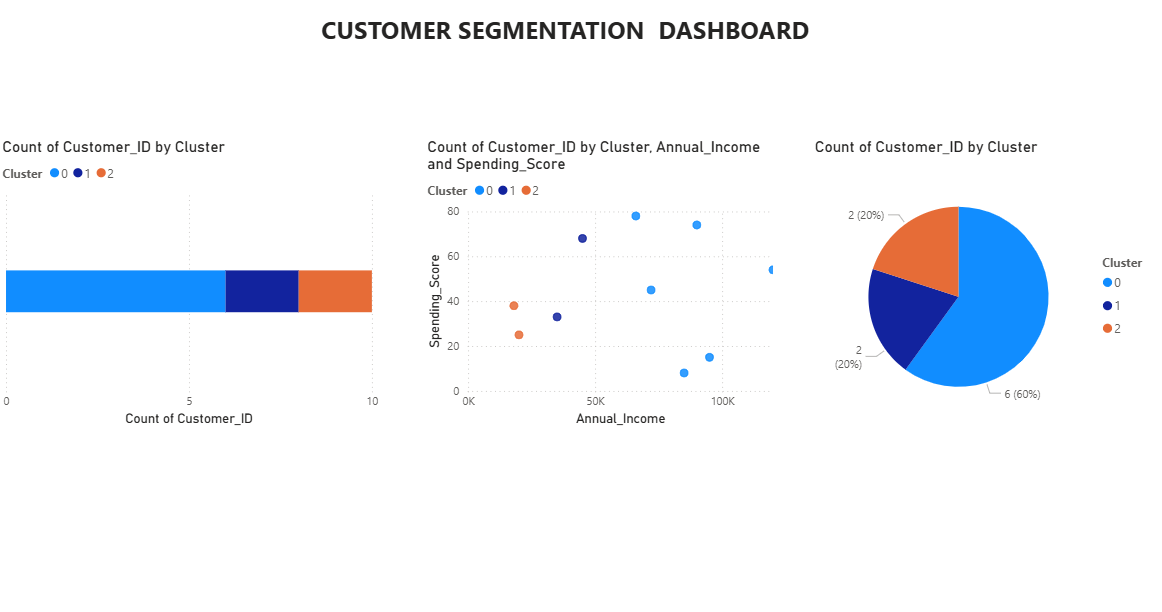

What the dashboard file says about the page in this screenshot:
{"tool":"powerbi","page":{"name":"Page 1","canvas":[1280,720],"ordinal":0},"visuals":[{"type":"scatterChart","fields":{"X":["clustered_customers.Annual_Income"],"Y":["clustered_customers.Spending_Score"],"Series":["clustered_customers.Cluster"]},"box":[466.6,197.6,403.4,322.5],"z":0},{"type":"barChart","fields":{"Y":["CountNonNull(clustered_customers.Customer_ID)"],"Series":["clustered_customers.Cluster"]},"box":[0,197.6,422.6,322.5],"z":1000},{"type":"pieChart","fields":{"Category":["clustered_customers.Cluster"],"Y":["CountNonNull(clustered_customers.Customer_ID)"]},"box":[891.9,197.6,388.3,332.1],"z":1001},{"type":"textbox","box":[0,0,503.6,111.1],"z":1002},{"type":"textbox","box":[349.9,56.3,635.3,93.3],"z":1003},{"type":"textbox","box":[892,0,388,150],"z":1004}]}

Visuals, with their boxes on the page's 1280x720 design canvas (x1, y1, x2, y2). These are canvas units, not pixel positions in the 1162x612 screenshot, which may show the page scaled, cropped or inside an application window:
scatterChart - clustered_customers.Annual_Income x clustered_customers.Spending_Score: Rect(467, 198, 870, 520)
barChart - CountNonNull(clustered_customers.Customer_ID) x clustered_customers.Cluster: Rect(0, 198, 423, 520)
pieChart - clustered_customers.Cluster x CountNonNull(clustered_customers.Customer_ID): Rect(892, 198, 1280, 530)
textbox: Rect(0, 0, 504, 111)
textbox: Rect(350, 56, 985, 150)
textbox: Rect(892, 0, 1280, 150)
